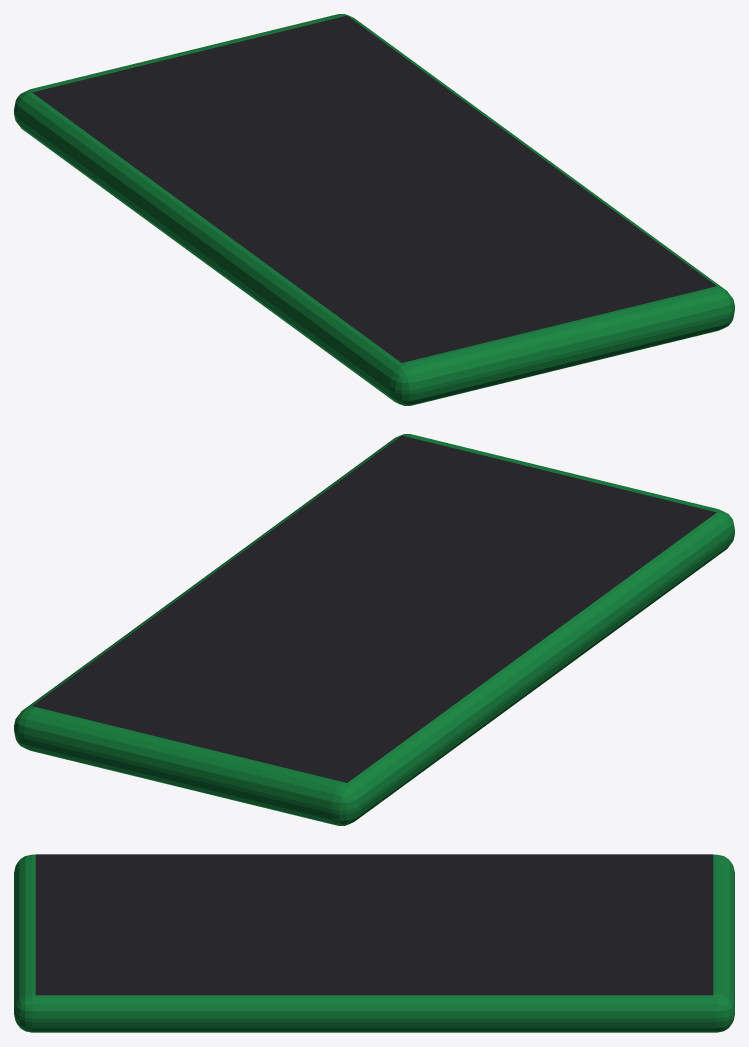
File: Phone_415.glb
3 renders of one model, top to bottom at view 1: azimuth 30°, elevation 25°; view 2: azimuth 150°, elevation 25°; view 3: azimuth 270°, elevation 25°, orthographic. The views are drawn at different scales.
Parts seen in each view (by area): view 1: Phone_Screen, Phone_Body; view 2: Phone_Screen, Phone_Body; view 3: Phone_Screen, Phone_Body.
Part boxes in pixels (x1,y1,x2,y2): Phone_Screen: [32, 15, 716, 362]; Phone_Body: [14, 14, 734, 405]; Phone_Screen: [32, 435, 716, 782]; Phone_Body: [14, 434, 734, 825]; Phone_Screen: [35, 854, 713, 995]; Phone_Body: [14, 854, 734, 1032].
Bounding box in the file's own units: 0.0753 × 0.0086 × 0.1497.
